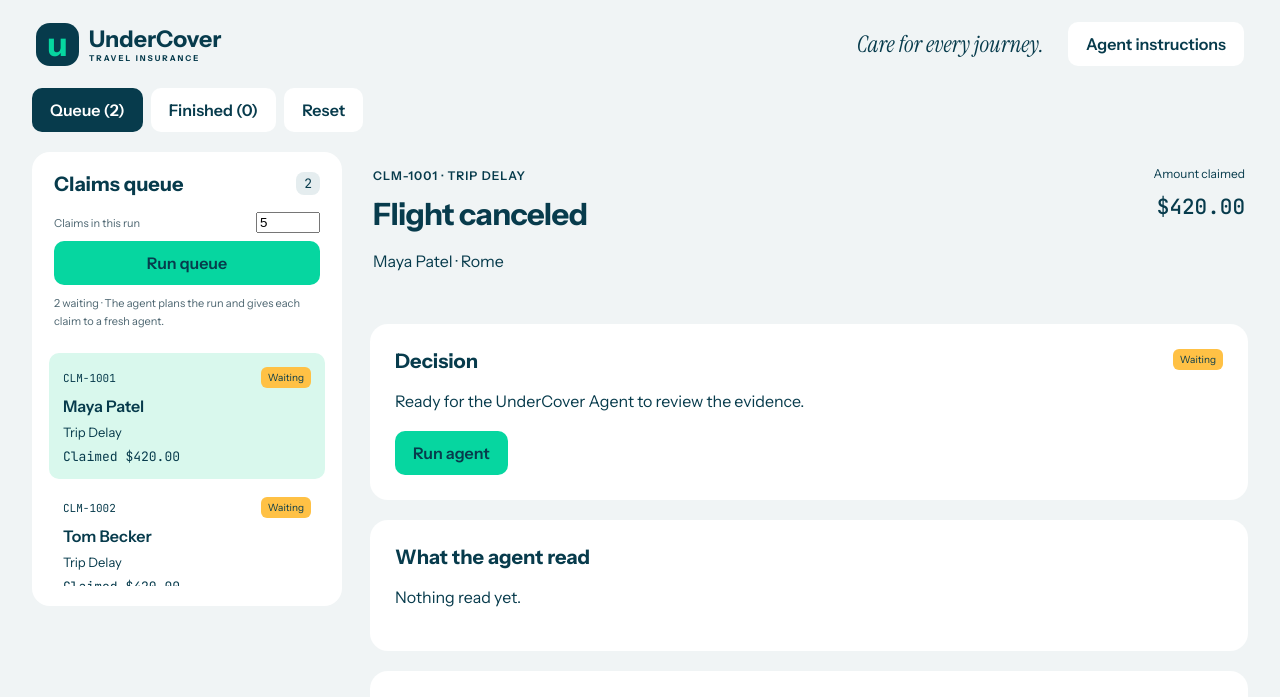
Test: reports a run error and allows retry
What coordinates should you click on to do the following:
click the button "Run agent"
I would click on:
 (451, 453)
Its box is [395,431,508,475].
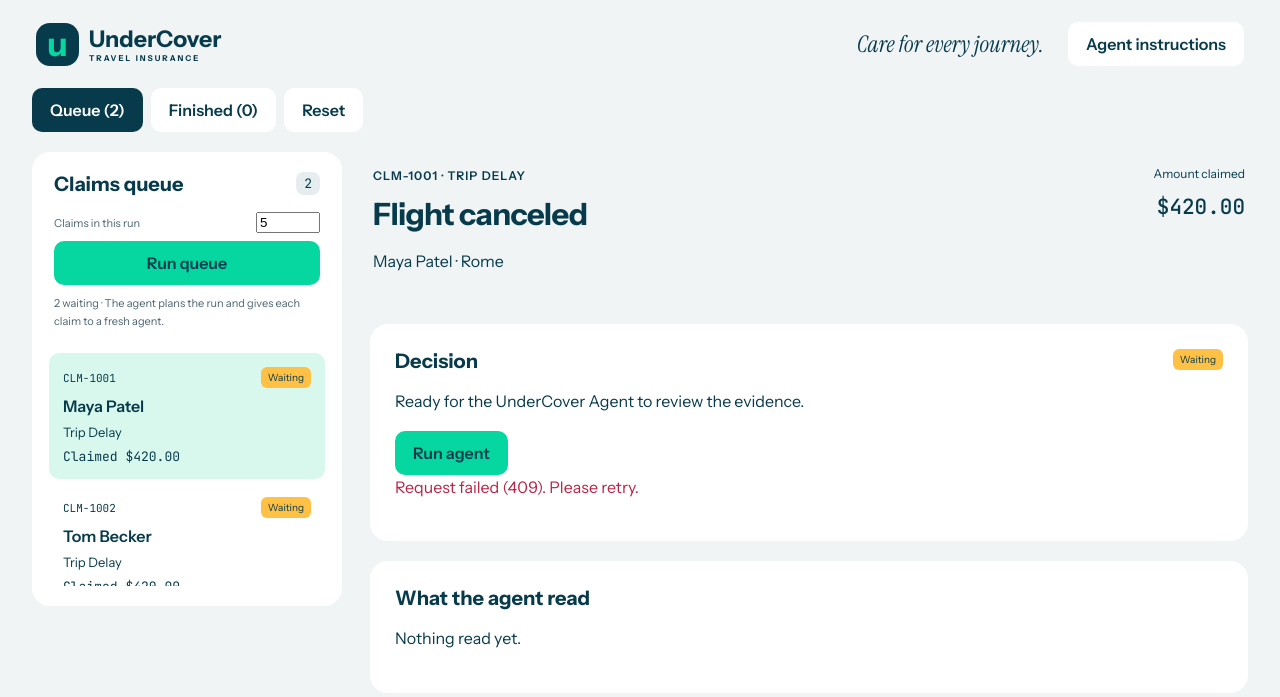
Check: the message "Request failed (409). Please retry." is shown, box [395,477,639,497]
What coordinates should you click on to do the following:
click the button "Run agent"
I would click on:
 (451, 453)
Its box is [395,431,508,475].
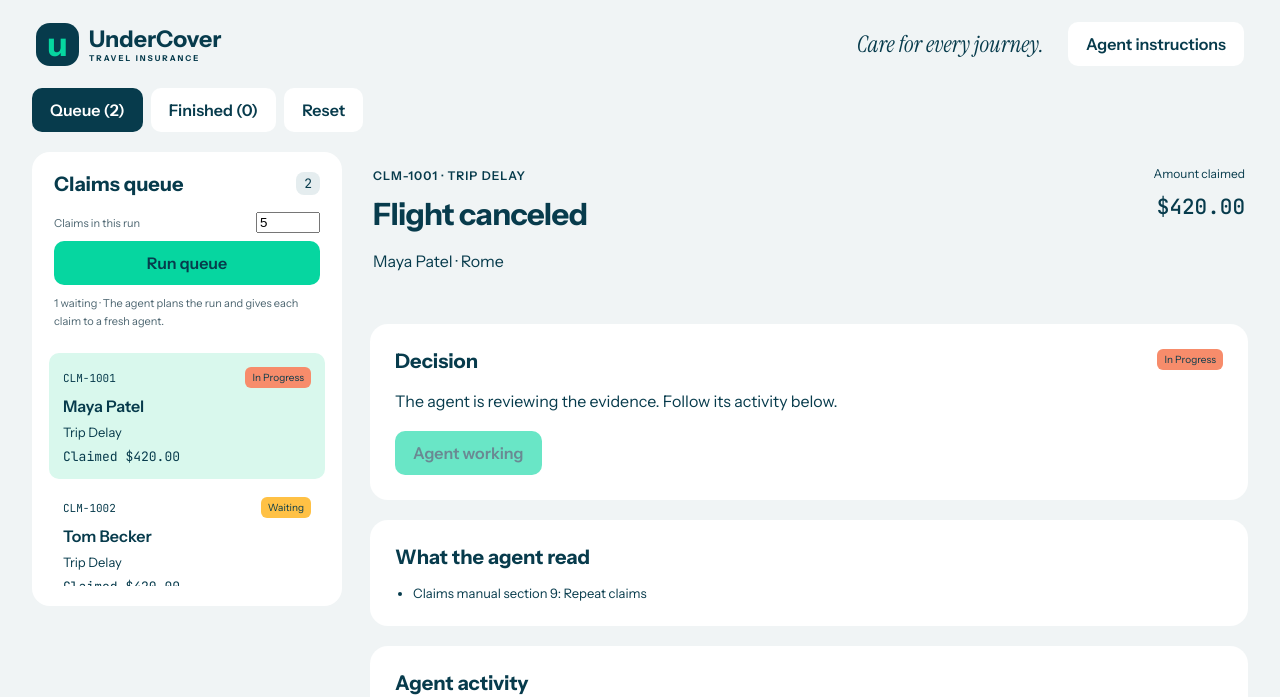
Check: the button "Agent working" is shown, box [395,431,542,475]
